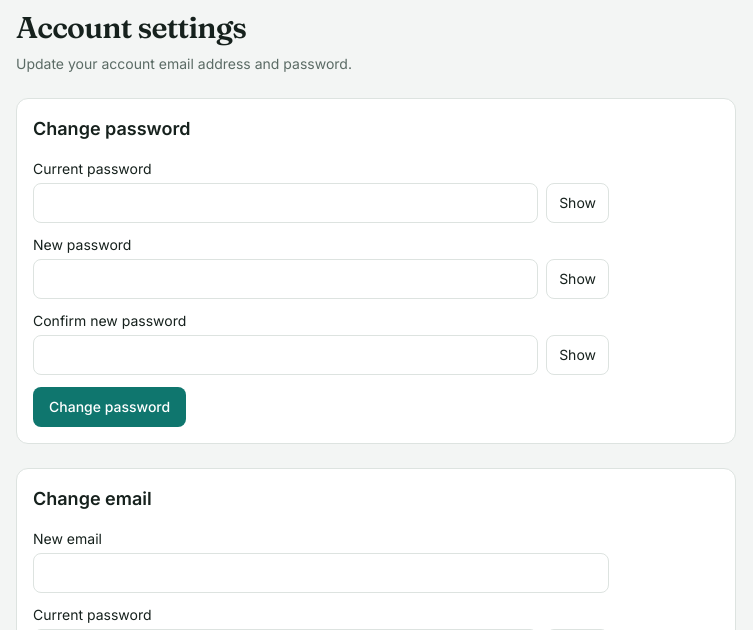
Scenario: account settings › stores the returned session after a successful password change
Type "StrongPass!234" into the 1st password field labelled "Current password" at (286, 203), box top-left (33, 183), bottom-right (538, 223)
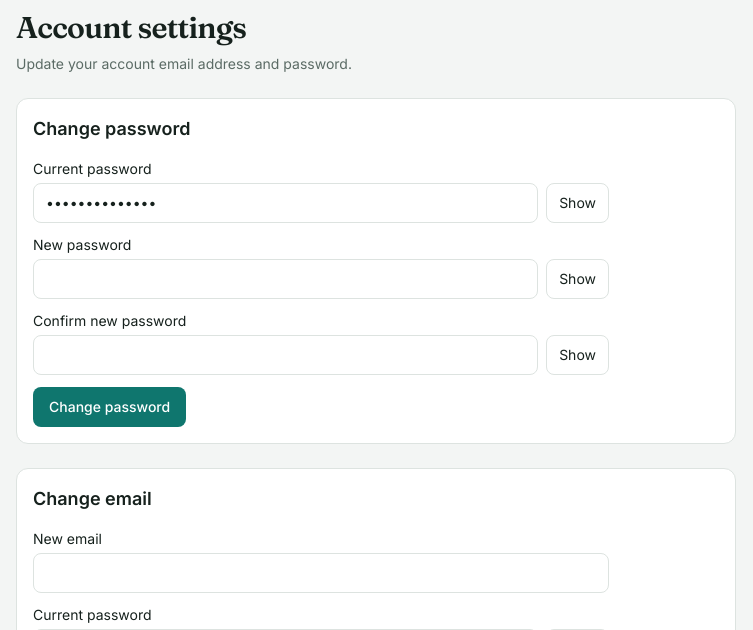
Type "NewStrong!567" into the password field labelled "New password" at (286, 279), box top-left (33, 259), bottom-right (538, 299)
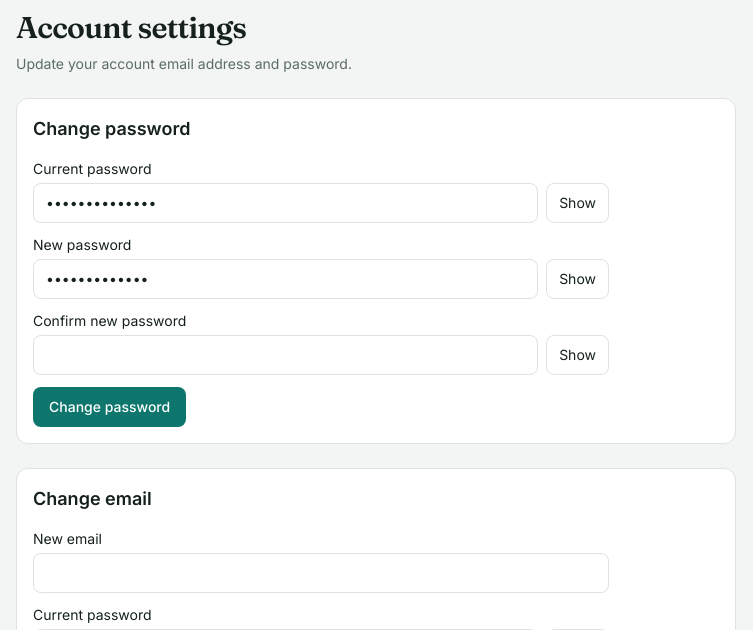
Type "NewStrong!567" into the password field labelled "Confirm new password" at (286, 355), box top-left (33, 335), bottom-right (538, 375)
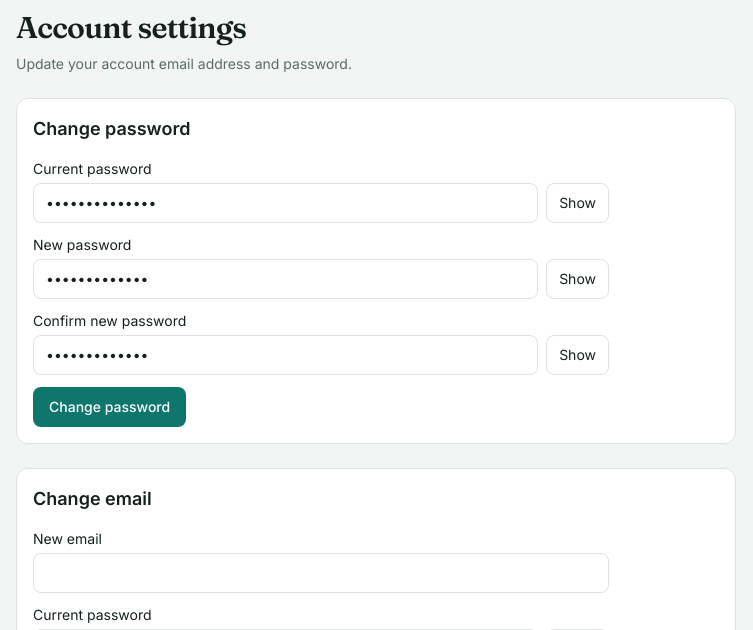
Click the button "Change password" at (110, 407), box top-left (33, 387), bottom-right (186, 427)
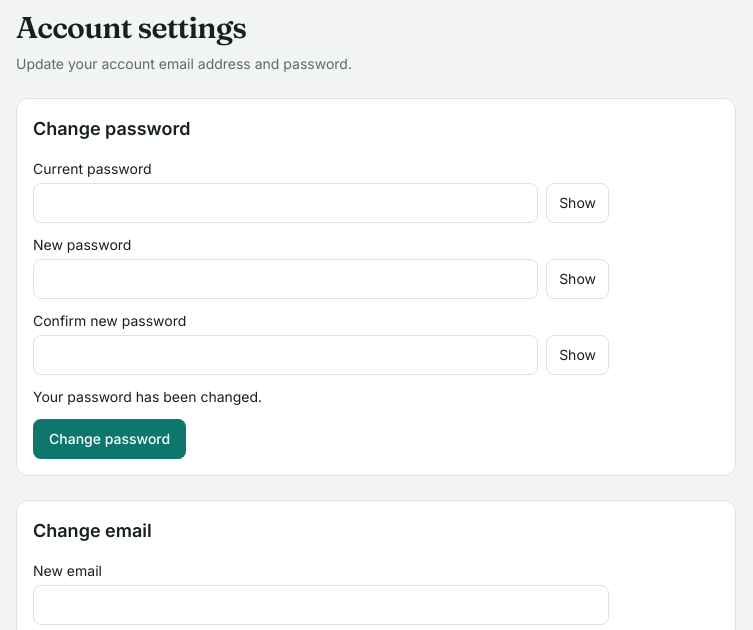
Expected: the message reads "Your password has been changed.", top-left (33, 388), bottom-right (262, 405)
